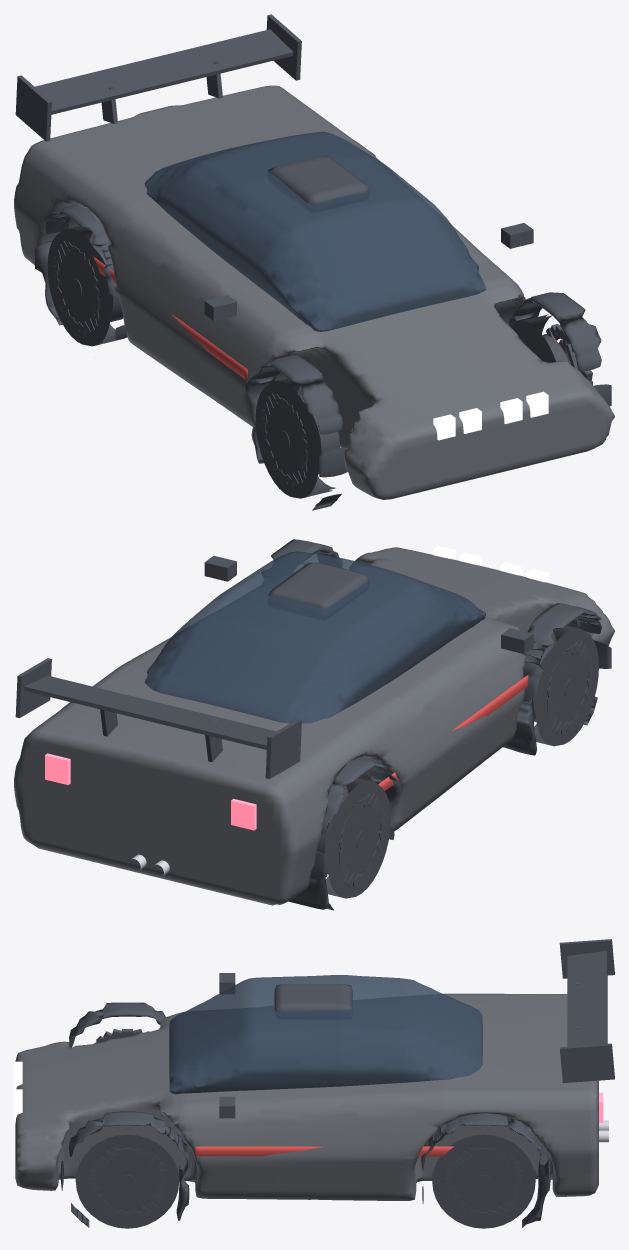
Rendered from stratos_wrc.glb.
The picture shows the model from 3 angles, top to bottom: view 1: azimuth 30°, elevation 25°; view 2: azimuth 150°, elevation 25°; view 3: azimuth 270°, elevation 25°; orthographic projection. The views are drawn at different scales.
Visible parts, largest first — view 1: Bodywork, CanopyGlass, CarbonAero (×3), TireRubber, ForgedRim, HeadlightLED, AccentLivery; view 2: Bodywork, CanopyGlass, CarbonAero (×3), TireRubber, ForgedRim, TaillightLED, HeadlightLED, AccentLivery; view 3: Bodywork, CanopyGlass, CarbonAero (×3), TireRubber, ForgedRim, AccentLivery, HeadlightLED.
Boxes of the visible parts, left/top/right/bottom form: Bodywork: left=14, top=85, right=614, bottom=499; CanopyGlass: left=144, top=131, right=485, bottom=331; CarbonAero (×3): left=15, top=14, right=611, bottom=510; TireRubber: left=47, top=225, right=555, bottom=498; ForgedRim: left=53, top=241, right=592, bottom=487; HeadlightLED: left=433, top=391, right=548, bottom=440; AccentLivery: left=93, top=256, right=525, bottom=380; Bodywork: left=14, top=547, right=614, bottom=905; CanopyGlass: left=144, top=551, right=485, bottom=723; CarbonAero (×3): left=15, top=539, right=611, bottom=910; TireRubber: left=325, top=625, right=598, bottom=898; ForgedRim: left=317, top=641, right=592, bottom=887; TaillightLED: left=45, top=753, right=256, bottom=830; HeadlightLED: left=433, top=546, right=548, bottom=582; AccentLivery: left=378, top=675, right=528, bottom=790; Bodywork: left=15, top=993, right=598, bottom=1200; CanopyGlass: left=169, top=975, right=482, bottom=1094; CarbonAero (×3): left=60, top=939, right=614, bottom=1227; TireRubber: left=75, top=1032, right=535, bottom=1228; ForgedRim: left=89, top=1029, right=522, bottom=1218; AccentLivery: left=195, top=1146, right=454, bottom=1156; HeadlightLED: left=14, top=1061, right=22, bottom=1123.
Size of the model in its own units: 2.2 by 1.43 by 4.18.
